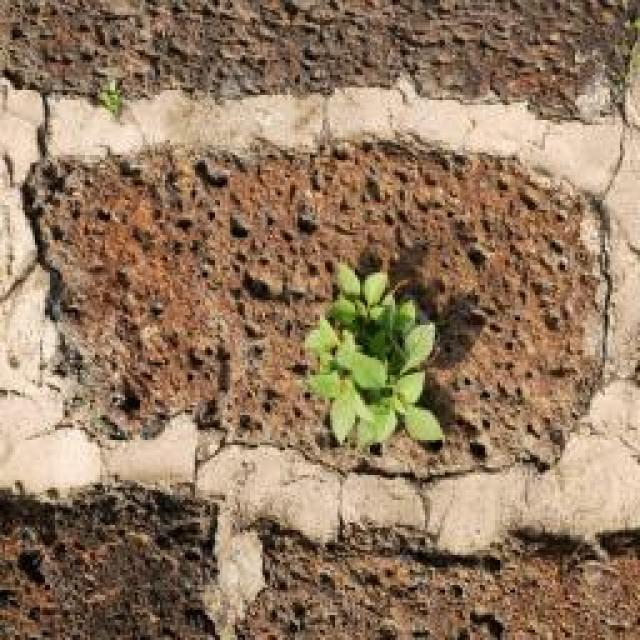crack: (25, 168, 82, 346), (599, 94, 632, 196), (39, 91, 53, 162), (318, 89, 334, 149)
dampens: (0, 66, 235, 637)
dampness: (19, 125, 612, 475), (8, 382, 638, 634)
vegetation: (301, 258, 444, 452), (97, 76, 124, 117)
